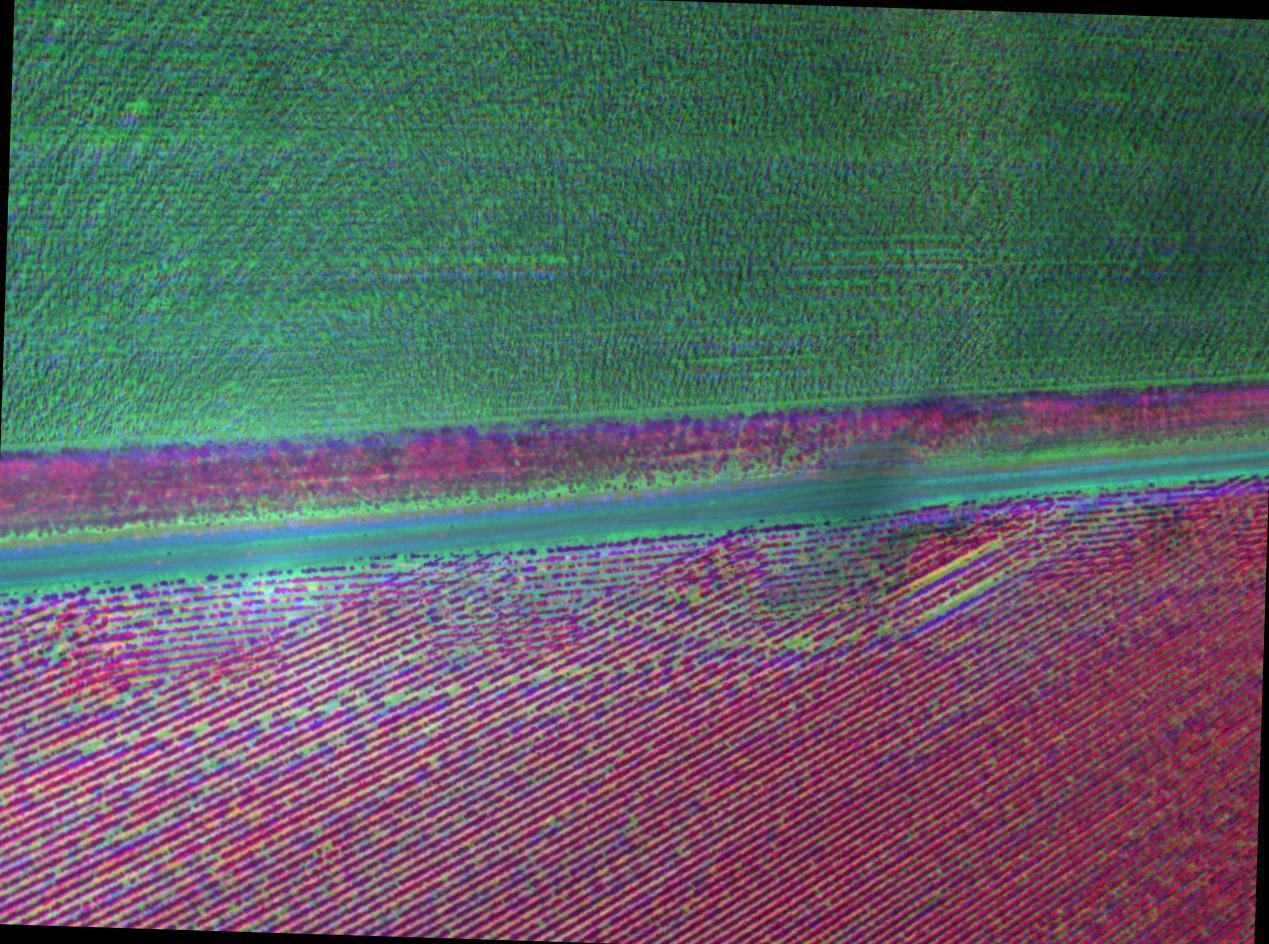dc: (790, 638, 804, 648), (731, 637, 742, 648), (83, 743, 95, 753), (705, 641, 717, 650), (848, 632, 859, 640), (196, 726, 207, 734), (104, 833, 111, 844), (314, 827, 323, 835), (263, 713, 270, 721), (684, 905, 691, 911)
